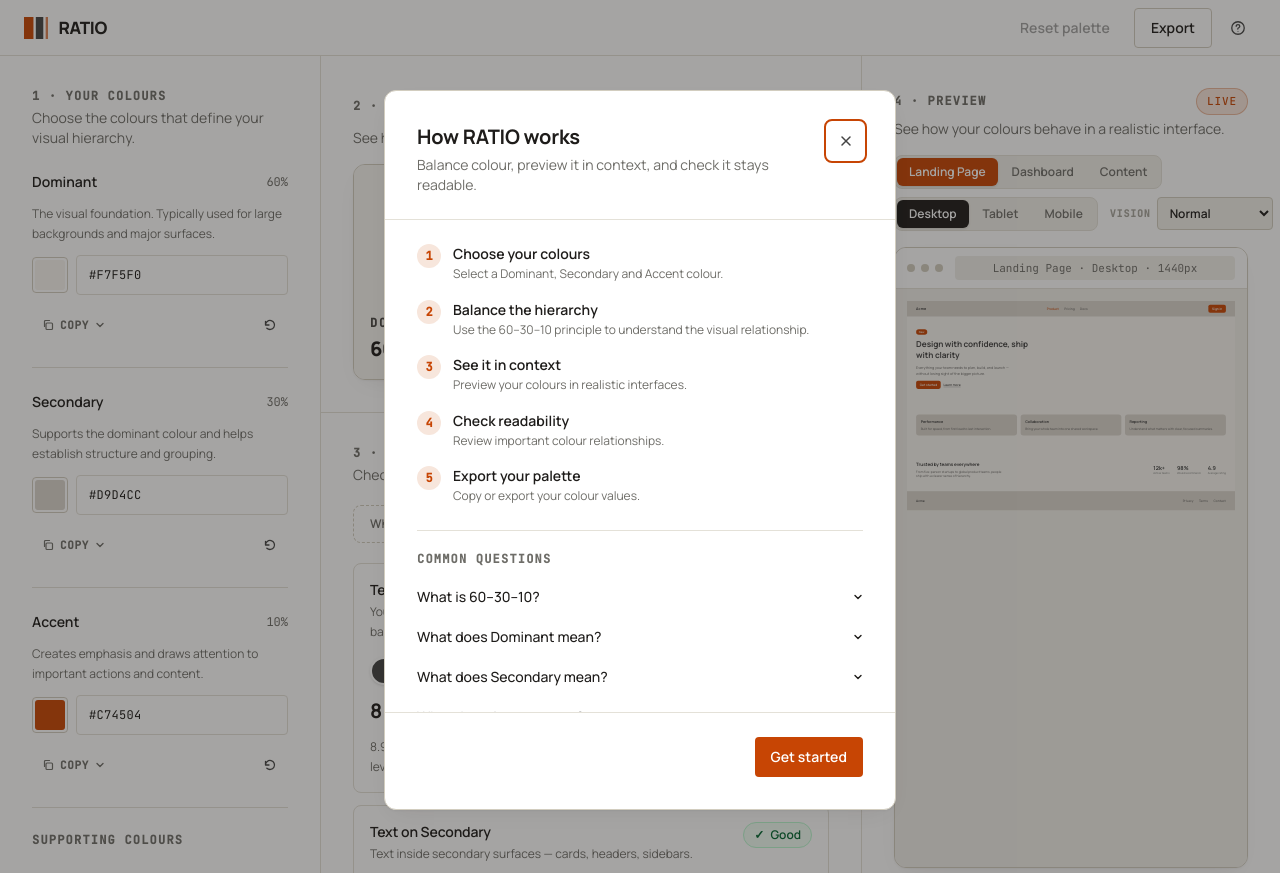
Test: WorkspaceShell › first-run guidance › dismissing it persists the state and closes it
The width and height of the screenshot is (1280, 873).
Click the button "Get started" at (809, 757), box x1=755 y1=737 x2=863 y2=777
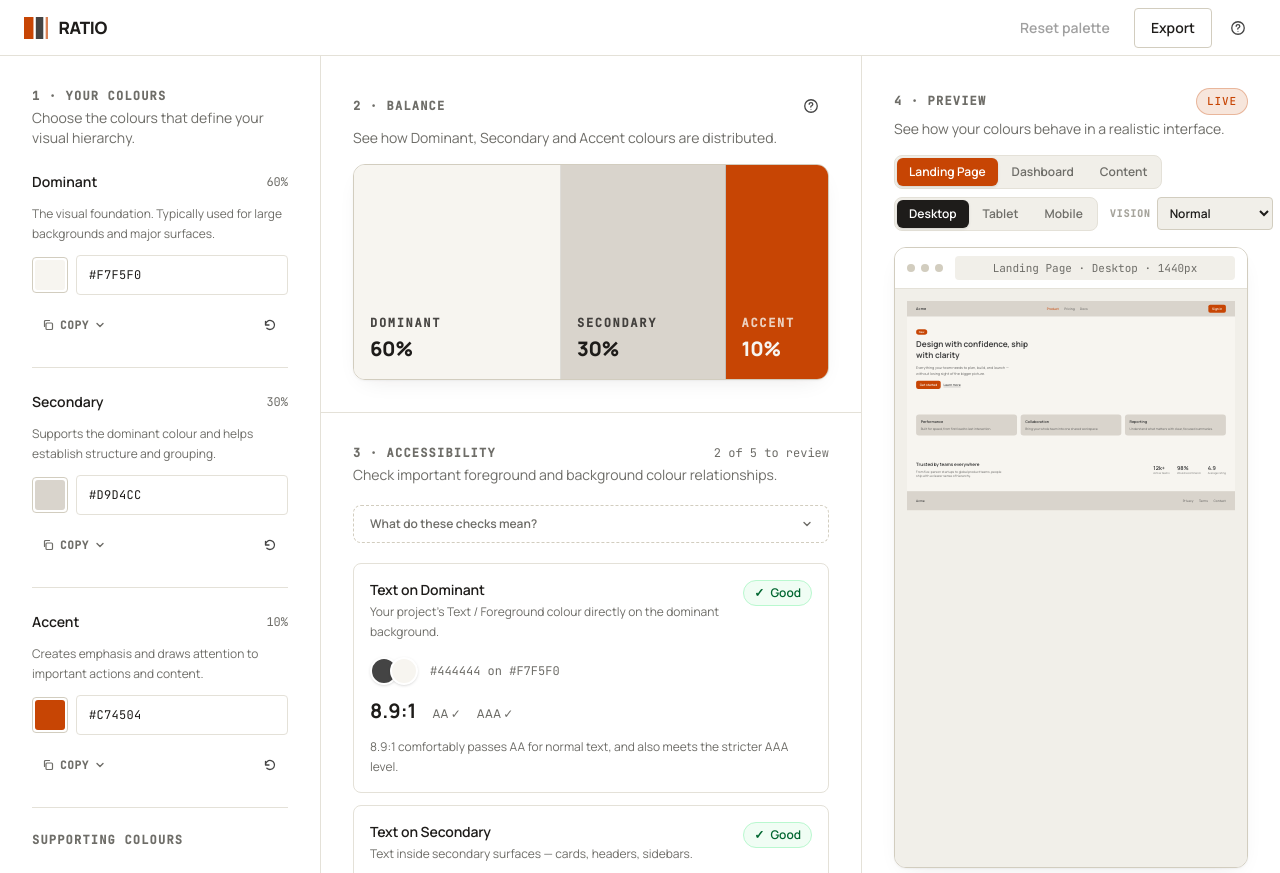
Now the heading "How RATIO works" is gone
